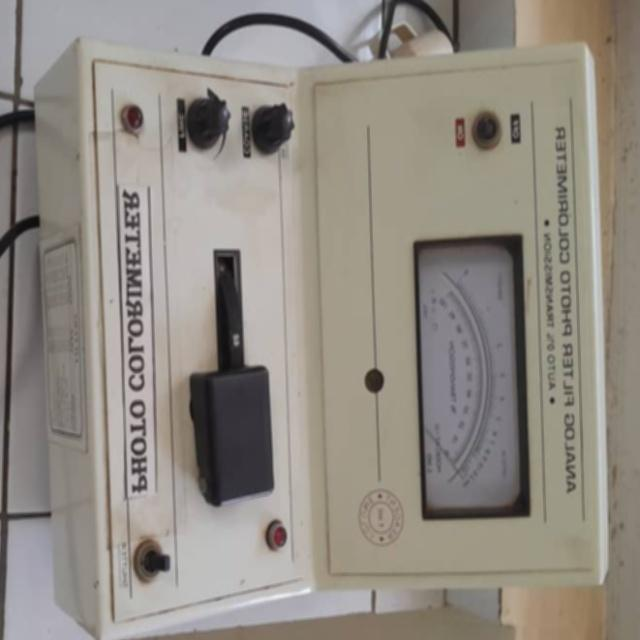Photocolorimeter: (61, 44, 620, 625)
